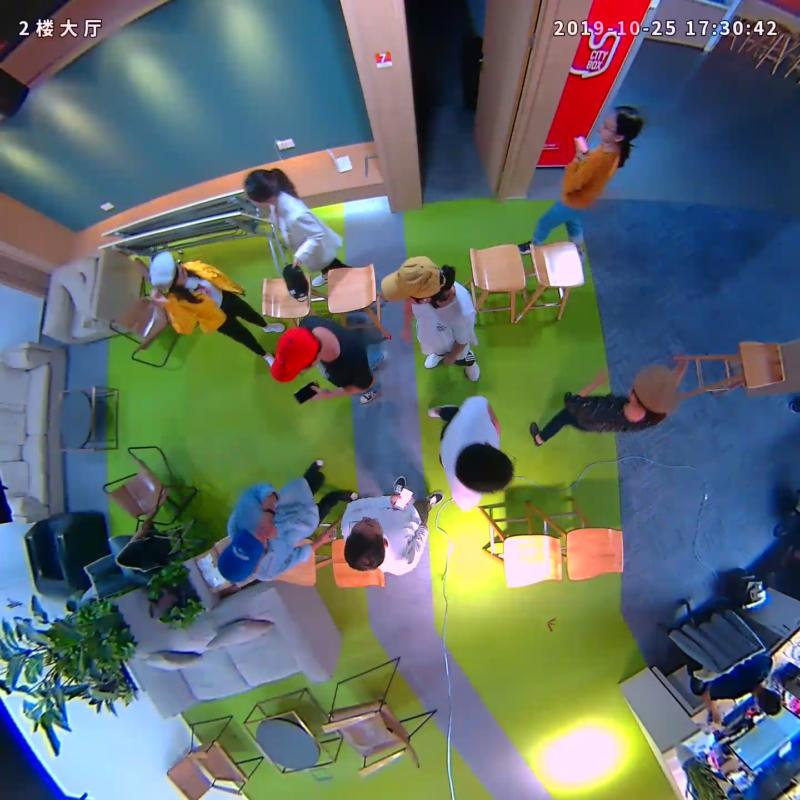head: (379, 254, 445, 304), (454, 442, 516, 495), (270, 326, 323, 385), (215, 528, 271, 582), (629, 362, 682, 415), (344, 518, 386, 571), (149, 250, 189, 295), (598, 105, 643, 144), (244, 167, 280, 208)
